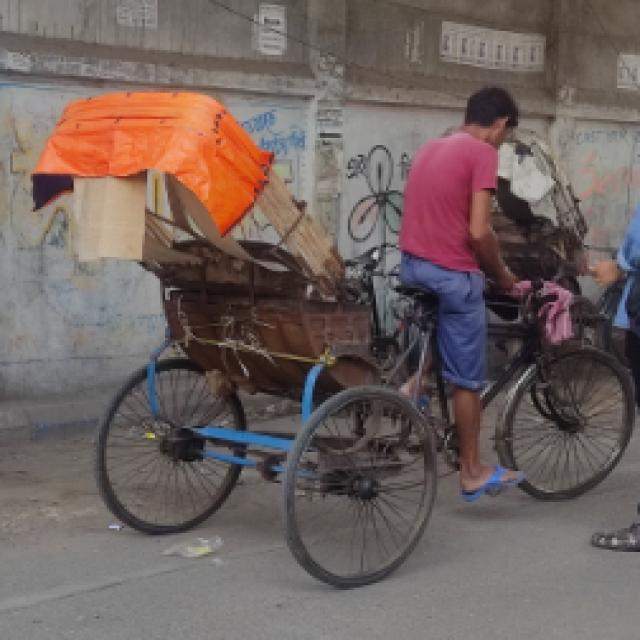rickshaw: (48, 85, 638, 592)
